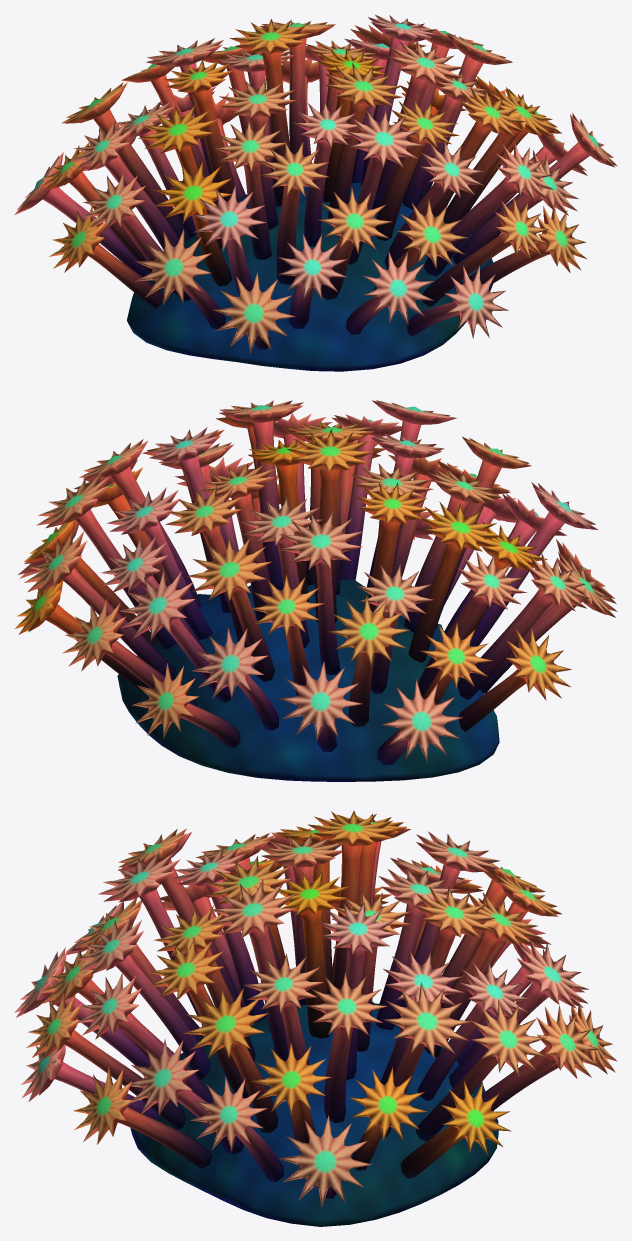
File: reef-goniopora-flowerpot-lps.glb
3 renders of one model, top to bottom at view 1: azimuth 30°, elevation 25°; view 2: azimuth 150°, elevation 25°; view 3: azimuth 270°, elevation 25°, orthographic. The views are drawn at different scales.
Visible parts, largest first — view 1: Reef_Goniopora_Flowerpot_LPS; view 2: Reef_Goniopora_Flowerpot_LPS; view 3: Reef_Goniopora_Flowerpot_LPS.
Part boxes in pixels (x1=…): Reef_Goniopora_Flowerpot_LPS: x1=14, y1=14, x2=617, y2=371; Reef_Goniopora_Flowerpot_LPS: x1=15, y1=400, x2=617, y2=781; Reef_Goniopora_Flowerpot_LPS: x1=14, y1=810, x2=617, y2=1226.
Bounding box in the file's own units: 0.166 × 0.0818 × 0.152.
2 materials, 2 textured.
